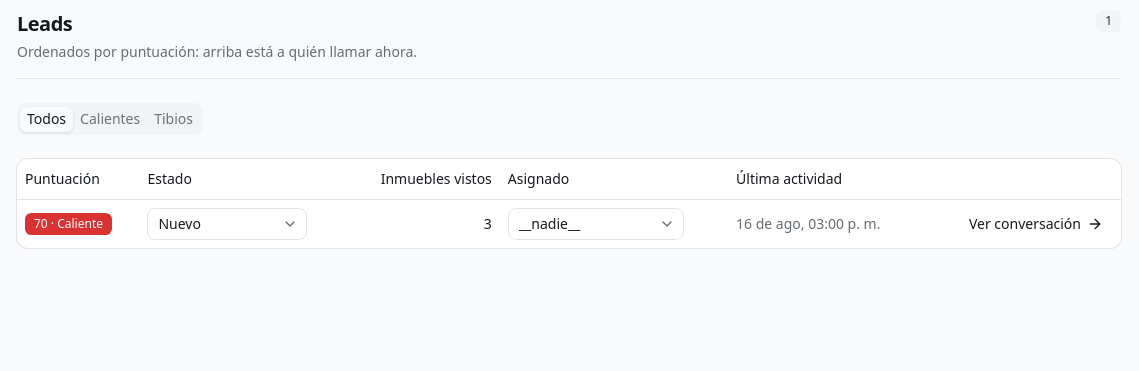
Test: Bandeja de leads › un avance normal se aplica al momento y la fila muestra lo que devolvió el servidor
This screenshot has width=1139, height=371.
Click the dropdown named "Estado del lead" at (227, 224), box [147,208,307,240]
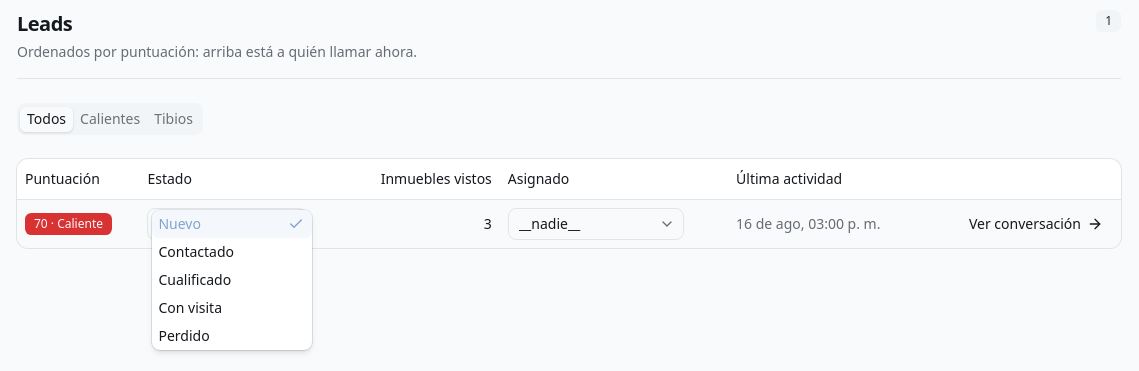
Click the option "Contactado" at (196, 251), box [158,242,234,260]
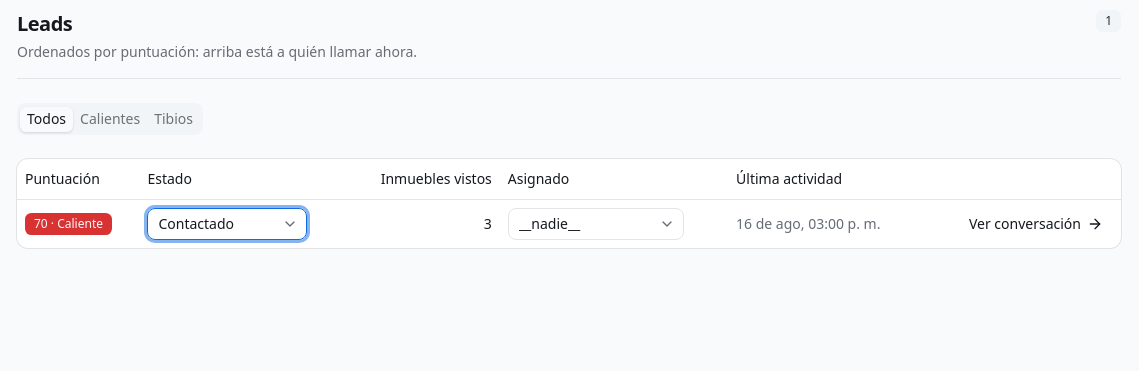
expect the dropdown named "Estado del lead" shows "Contactado": met, box [147,208,307,240]
